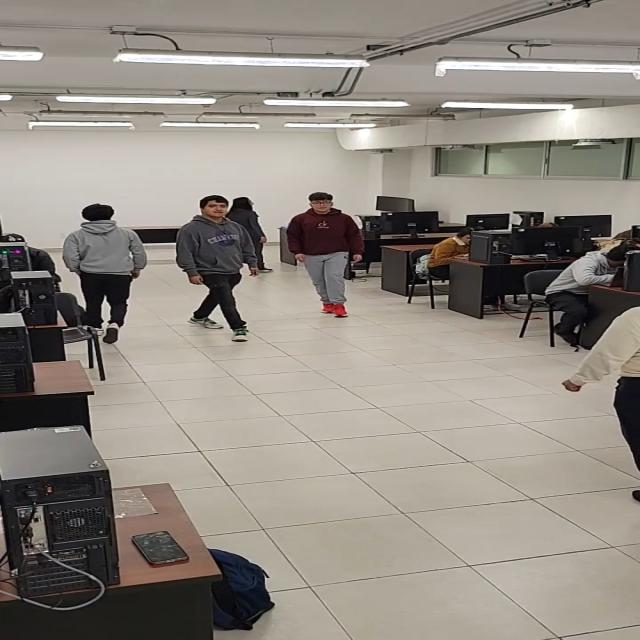Persona: (172, 192, 264, 347), (54, 199, 148, 344), (281, 189, 364, 322)
